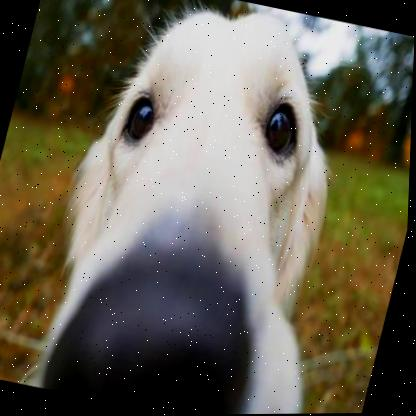dog: (11, 0, 399, 416)
